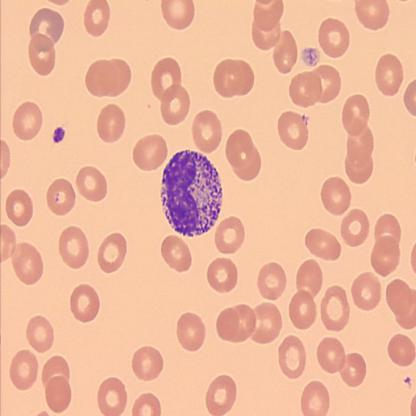Band Neutrophil: (157, 146, 224, 240)
